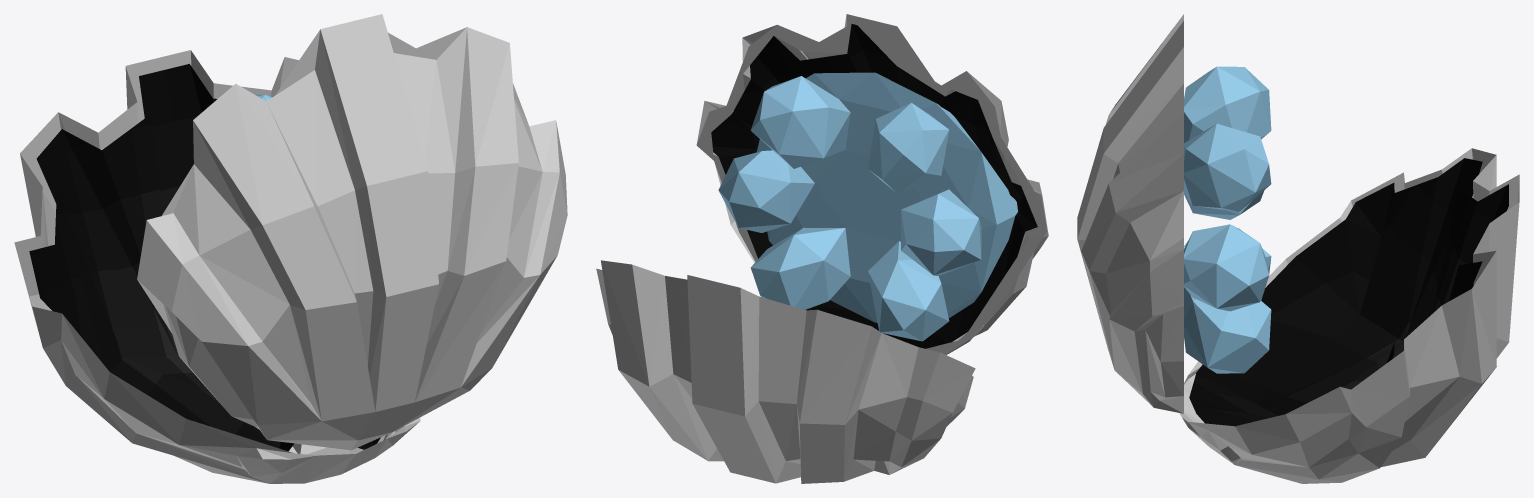
Rendered from BR_Clamperl.obj.
3 renders of one model, left to right at view 1: azimuth 30°, elevation 25°; view 2: azimuth 150°, elevation 25°; view 3: azimuth 270°, elevation 25°, orthographic. The views are drawn at different scales.
Visible parts, largest first — view 1: pearlulu; view 2: pearlulu; view 3: pearlulu.
Part boxes in pixels (<box>): pearlulu: <box>14,14,567,483</box>; pearlulu: <box>596,14,1048,483</box>; pearlulu: <box>1077,14,1519,483</box>.
Size of the model in its own units: 4.41 by 4.65 by 4.35.
